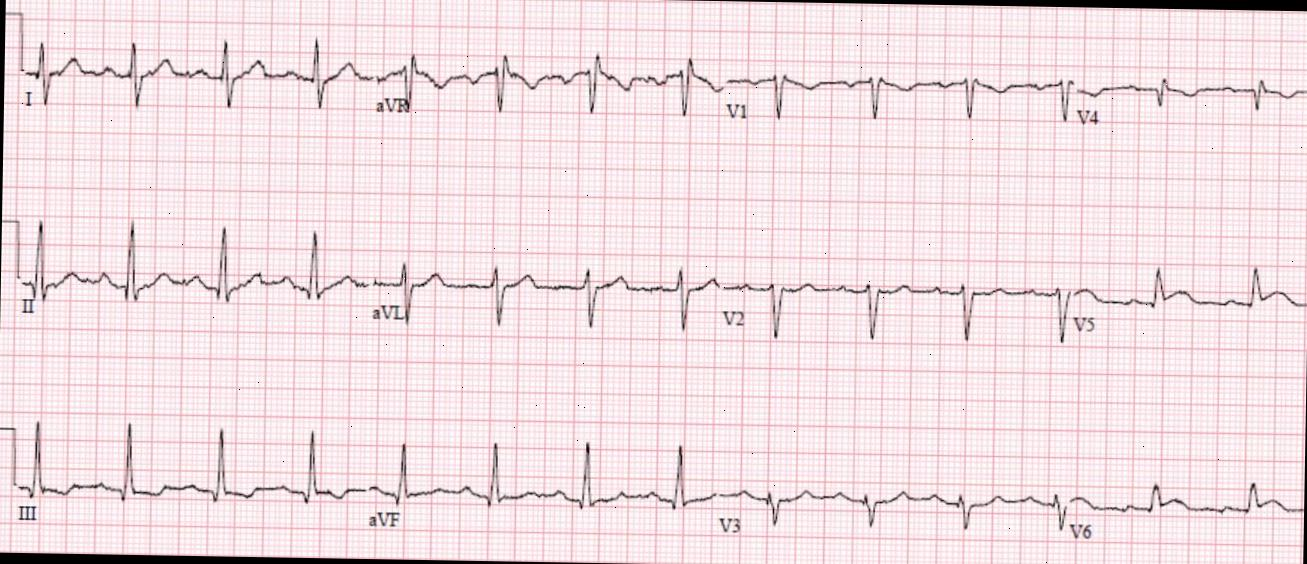Lead_I: (19, 32, 378, 118)
Lead_II: (18, 207, 371, 329)
Lead_III: (13, 406, 368, 537)
Lead_V1: (722, 48, 1074, 140)
Lead_V2: (715, 256, 1072, 352)
Lead_V3: (714, 450, 1070, 562)
Lead_V4: (1072, 63, 1307, 142)
Lead_V5: (1072, 246, 1307, 365)
Lead_V6: (1068, 466, 1304, 562)
Lead_aVF: (368, 421, 720, 543)
Lead_aVL: (368, 233, 720, 340)
Lead_aVR: (374, 33, 726, 138)
